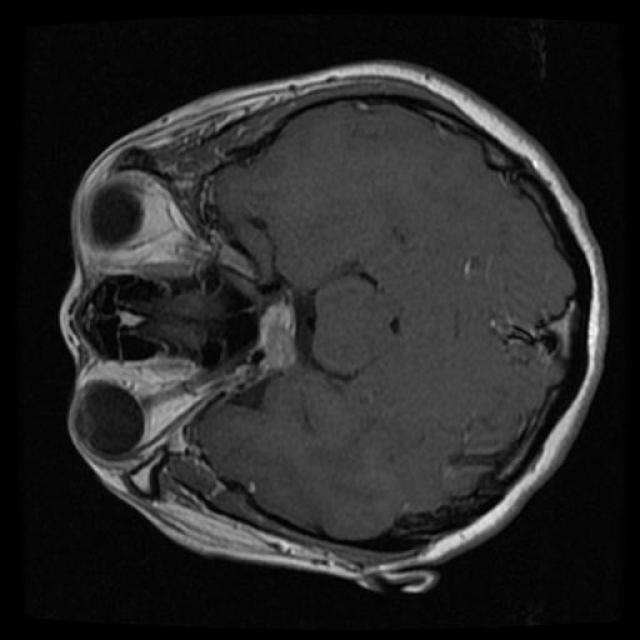Pituitary: (246, 282, 297, 380)
